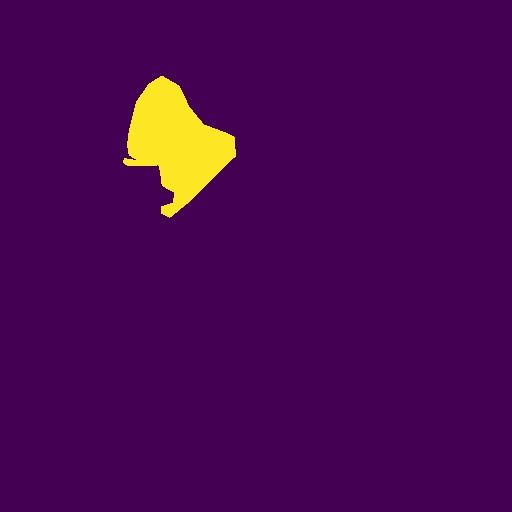Gliomia_tumour: (123, 76, 236, 218)
